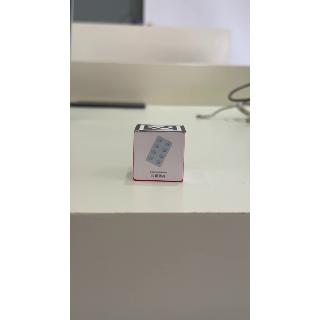Tablet: (135, 132, 186, 185)
